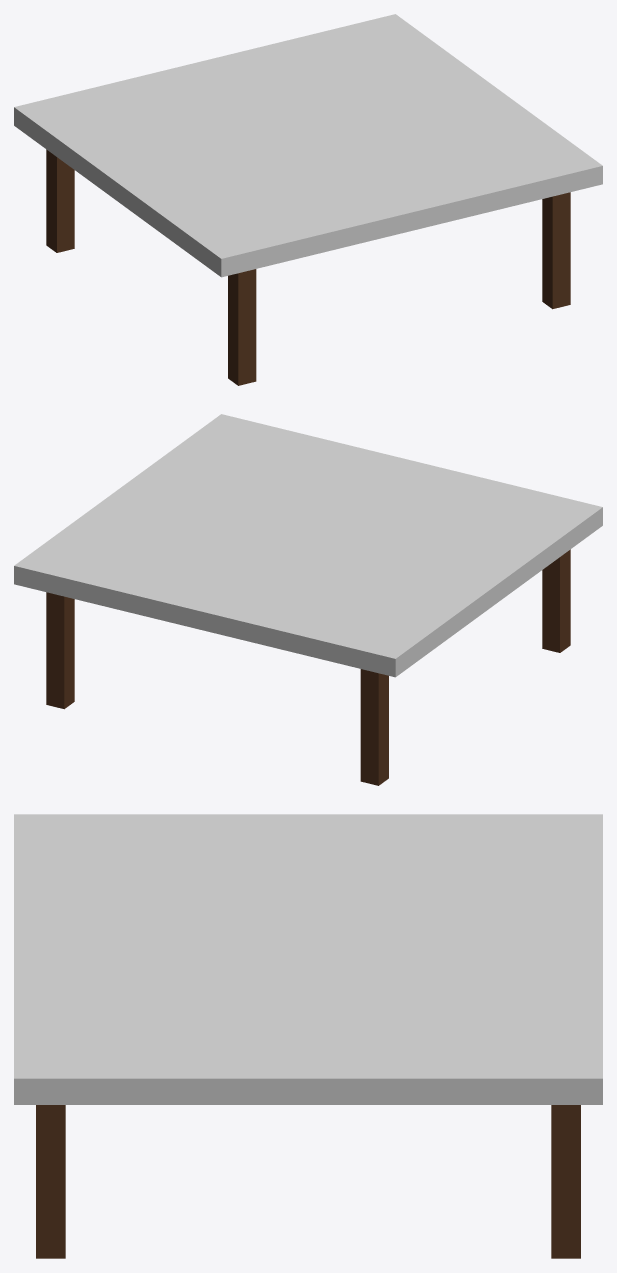
The model's file is mesa_baja.glb.
3 renders of one model, top to bottom at view 1: azimuth 30°, elevation 25°; view 2: azimuth 150°, elevation 25°; view 3: azimuth 270°, elevation 25°, orthographic. The views are drawn at different scales.
Parts seen in each view (by area): view 1: mesa_baja; view 2: mesa_baja; view 3: mesa_baja.
Part boxes in pixels (bbox=[...]): mesa_baja: bbox=[14, 14, 602, 385]; mesa_baja: bbox=[14, 414, 602, 785]; mesa_baja: bbox=[14, 814, 602, 1258].
Size of the model in its own units: 1.3 by 0.45 by 1.22.
